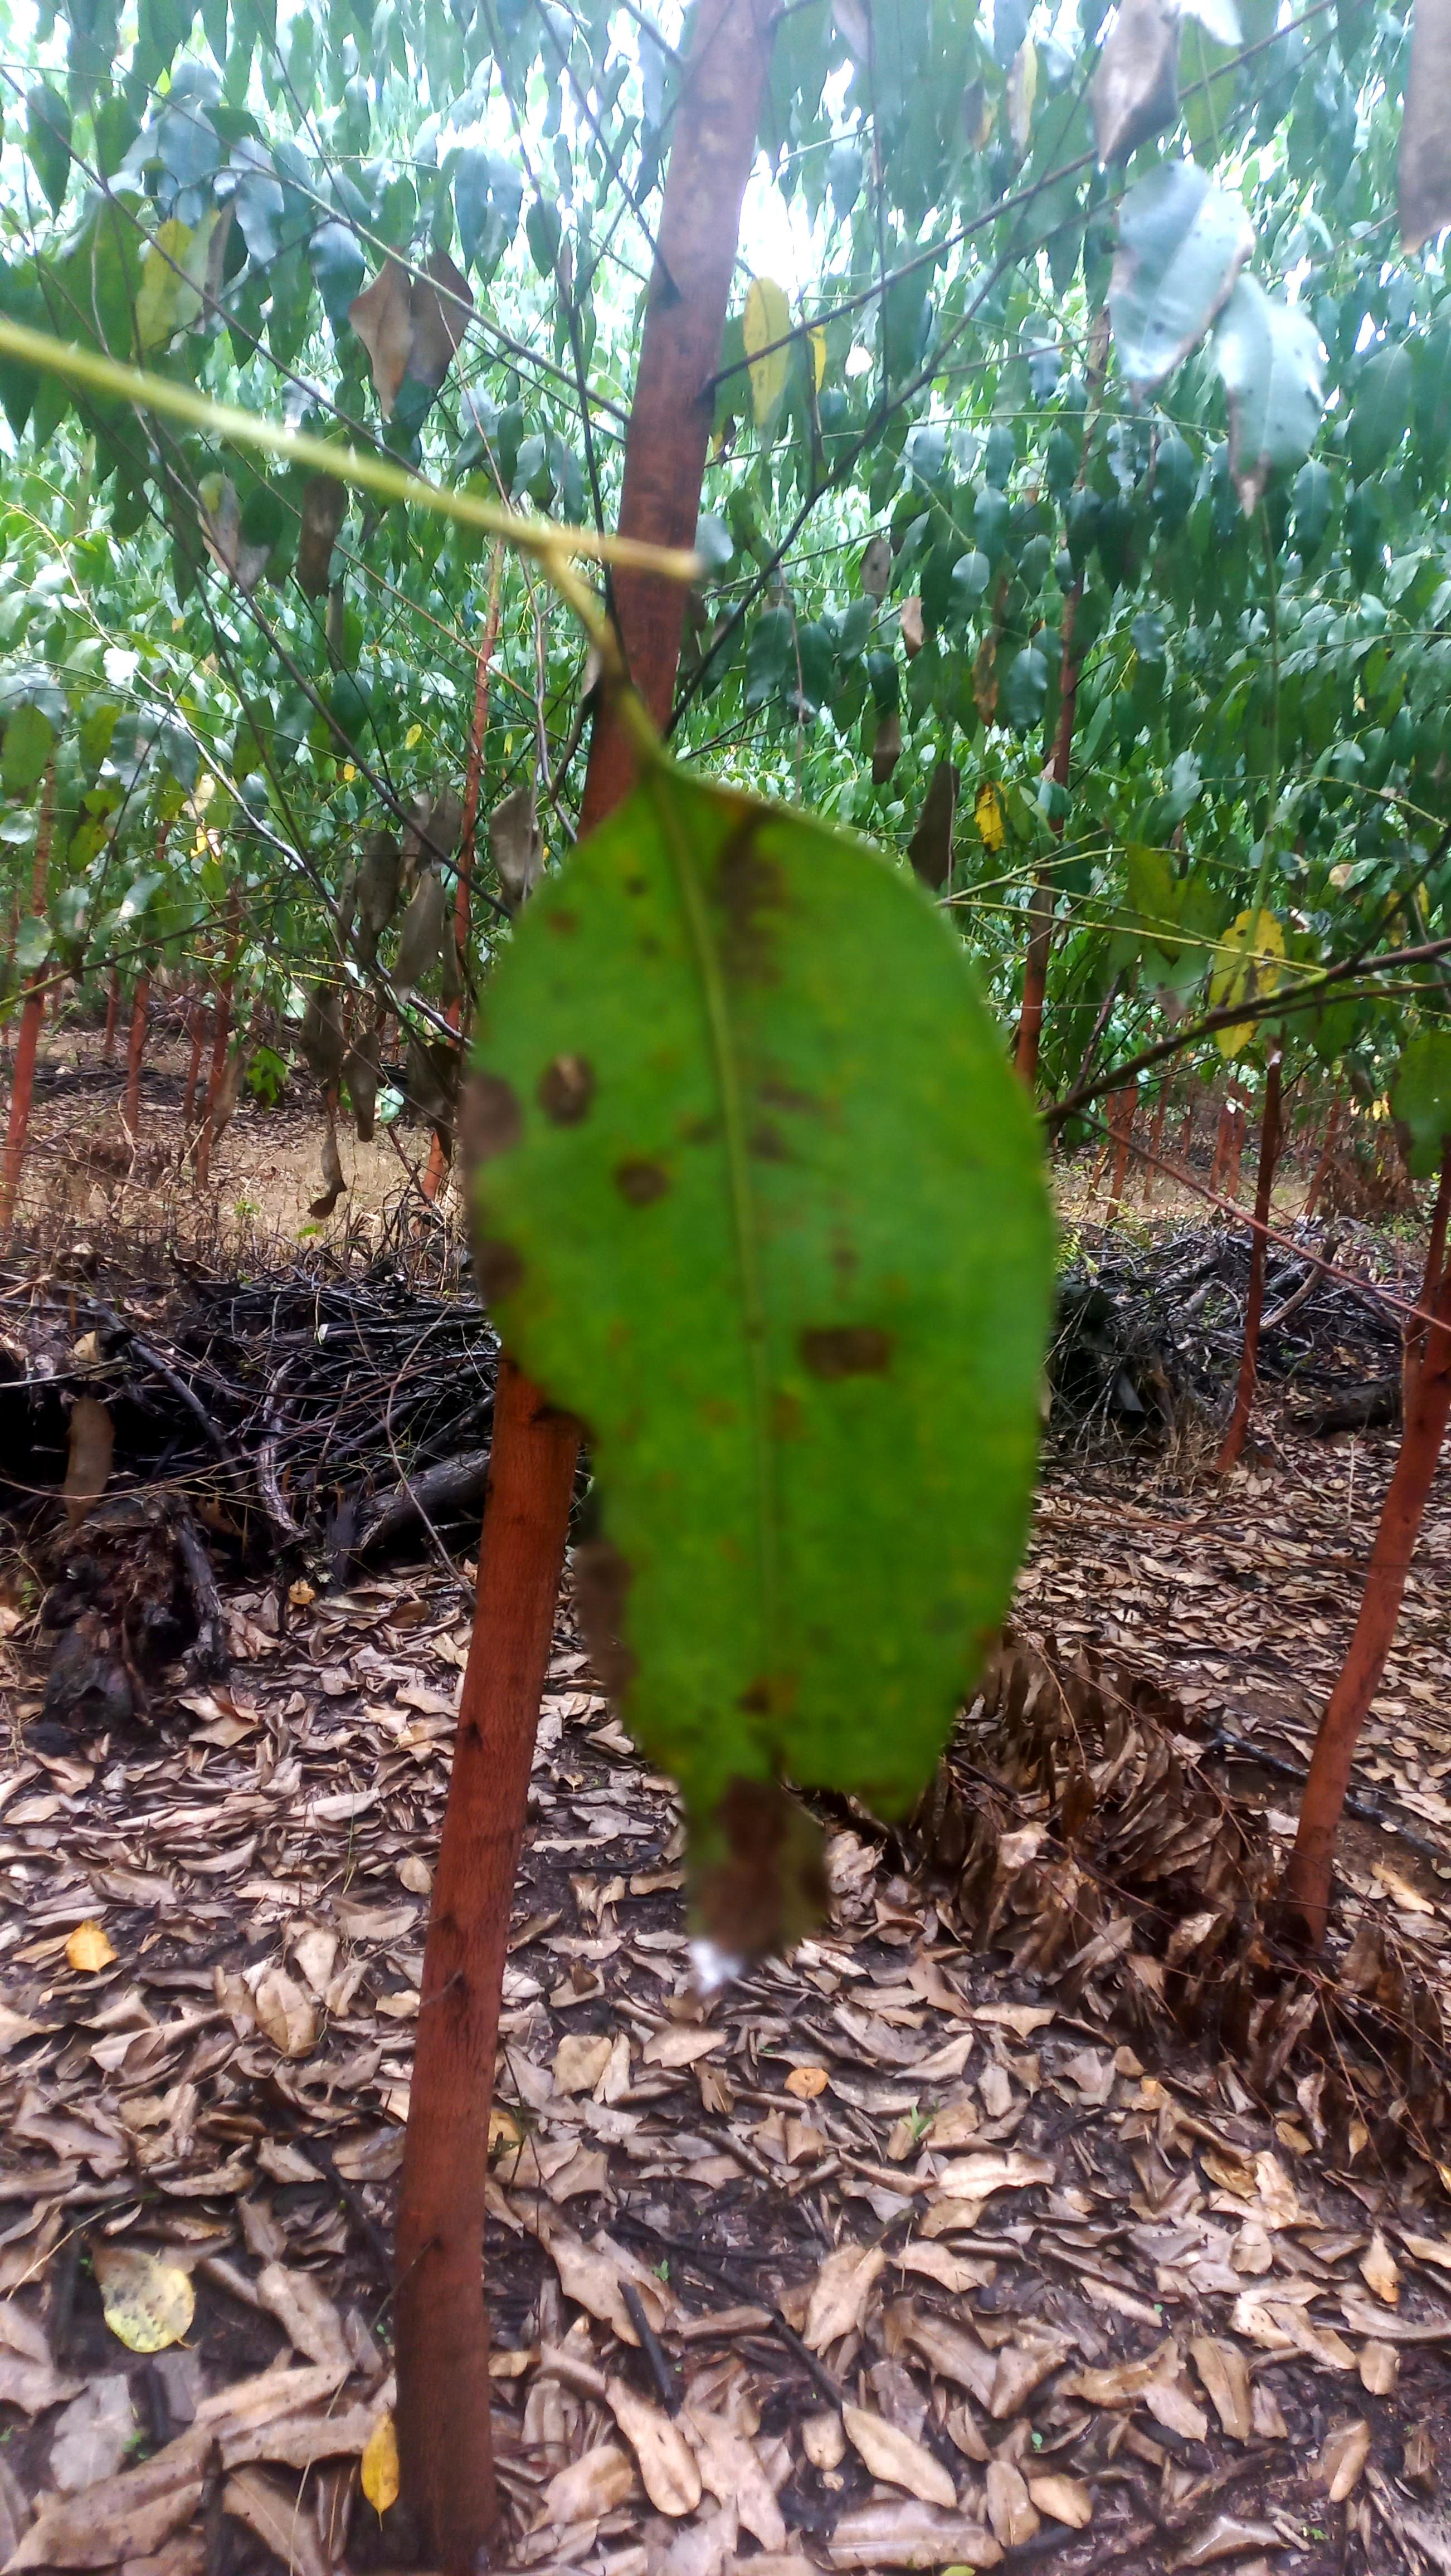Cylindrocladium: (559, 1518, 837, 1957), (451, 1062, 529, 1318), (702, 796, 793, 1007), (793, 1286, 890, 1401), (547, 1058, 595, 1127), (618, 1155, 667, 1205)
